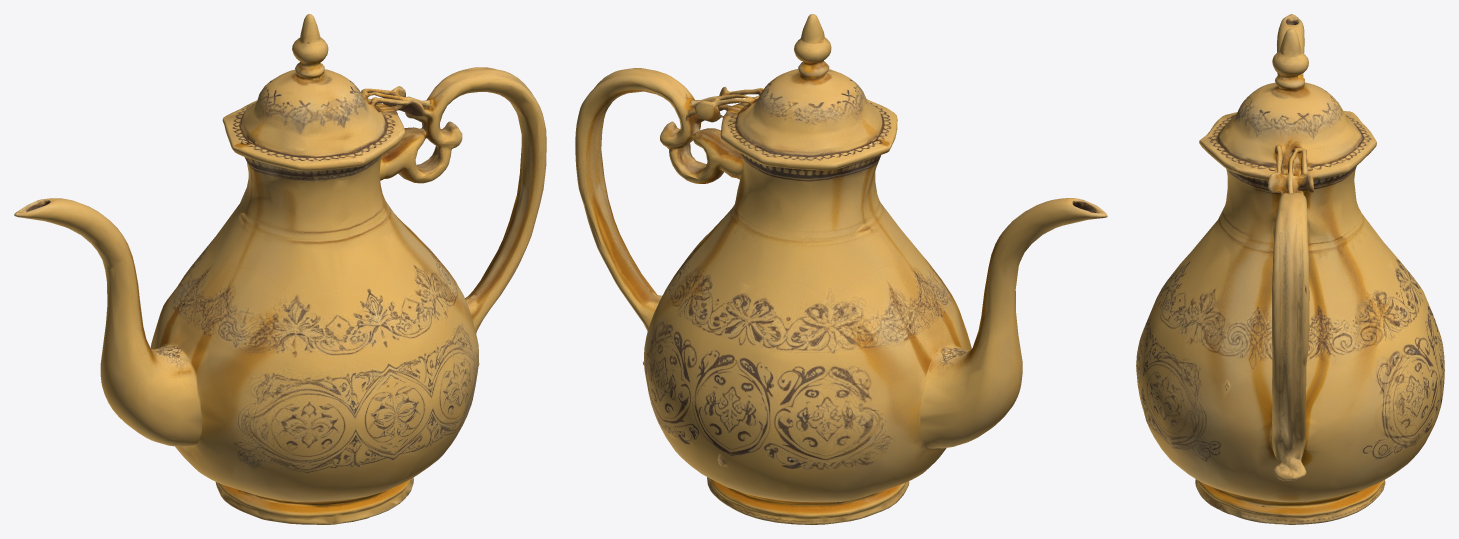
File: carafe.glb
3 views of the same model, side by side, from view 1: azimuth 30°, elevation 25°; view 2: azimuth 150°, elevation 25°; view 3: azimuth 270°, elevation 25° (orthographic). The views are drawn at different scales.
Size of the model in its own units: 2 by 1.72 by 1.06.
Materials: 1 (1 with a texture image).
